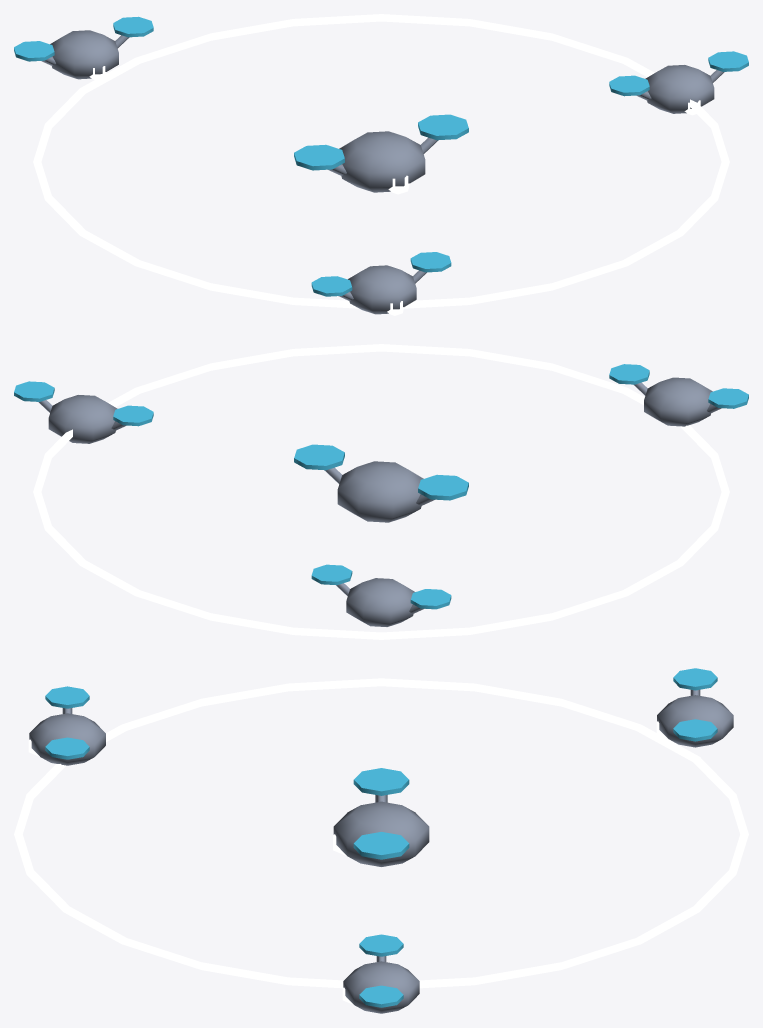
Rendered from shiro_p1.glb.
3 renders of one model, top to bottom at view 1: azimuth 30°, elevation 25°; view 2: azimuth 150°, elevation 25°; view 3: azimuth 270°, elevation 25°, orthographic. The views are drawn at different scales.
Parts seen in each view (by area): view 1: p1_drones_glow, p1_drones_body, p1_drone_body; view 2: p1_drones_body, p1_drones_glow, p1_drone_body; view 3: p1_drones_glow, p1_drones_body, p1_drone_body.
Boxes of the visible parts, box(x1,y1,x2,y2) form: p1_drones_glow: box(33, 14, 729, 315); p1_drones_body: box(14, 16, 748, 314); p1_drone_body: box(294, 114, 468, 192); p1_drones_body: box(14, 364, 748, 626); p1_drones_glow: box(33, 344, 729, 639); p1_drone_body: box(294, 444, 468, 522); p1_drones_glow: box(14, 678, 748, 1004); p1_drones_body: box(29, 668, 733, 1013); p1_drone_body: box(333, 768, 429, 866).
Size of the model in its own units: 0.807 by 0.0895 by 0.73.
